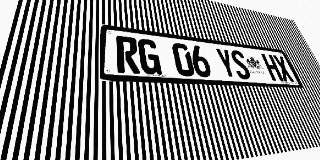0: (171, 42, 196, 77)
6: (188, 44, 213, 78)
G: (137, 38, 162, 75)
H: (261, 54, 284, 81)
R: (116, 35, 140, 74)
S: (229, 50, 252, 80)
X: (272, 55, 295, 82)
Y: (214, 48, 238, 79)
